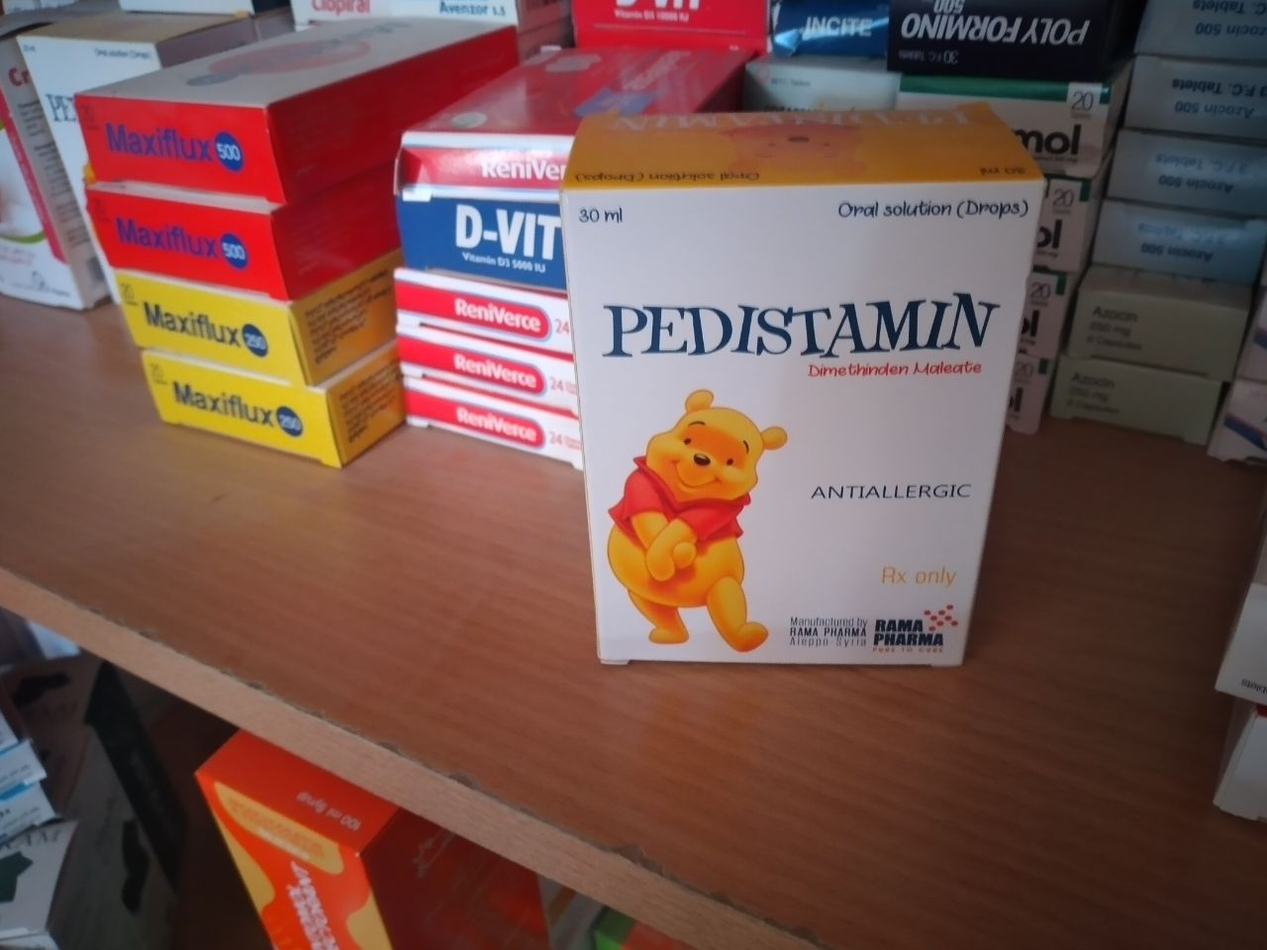Medicine: (544, 104, 1037, 715), (77, 5, 512, 203), (393, 30, 767, 218), (72, 168, 361, 304), (99, 267, 403, 376), (146, 359, 413, 475), (1052, 334, 1227, 473), (1062, 285, 1252, 396), (1081, 198, 1267, 309), (381, 277, 616, 359), (1101, 126, 1267, 240), (374, 178, 559, 270), (1123, 64, 1267, 151), (1133, 5, 1267, 94)
